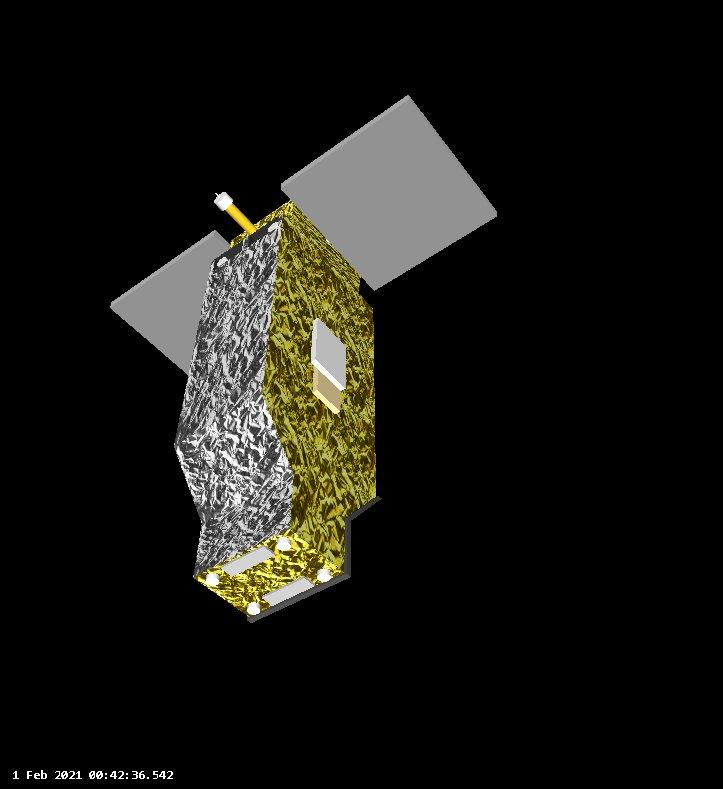antenna: (212, 189, 256, 235)
body: (170, 195, 381, 626)
solar: (279, 92, 501, 293), (107, 228, 233, 380)
